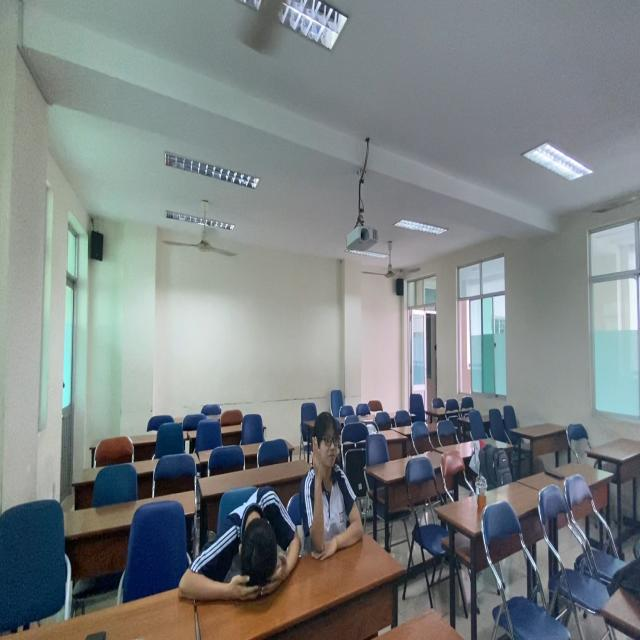raise_hand: (300, 410, 369, 567)
sleep: (180, 486, 304, 605)
